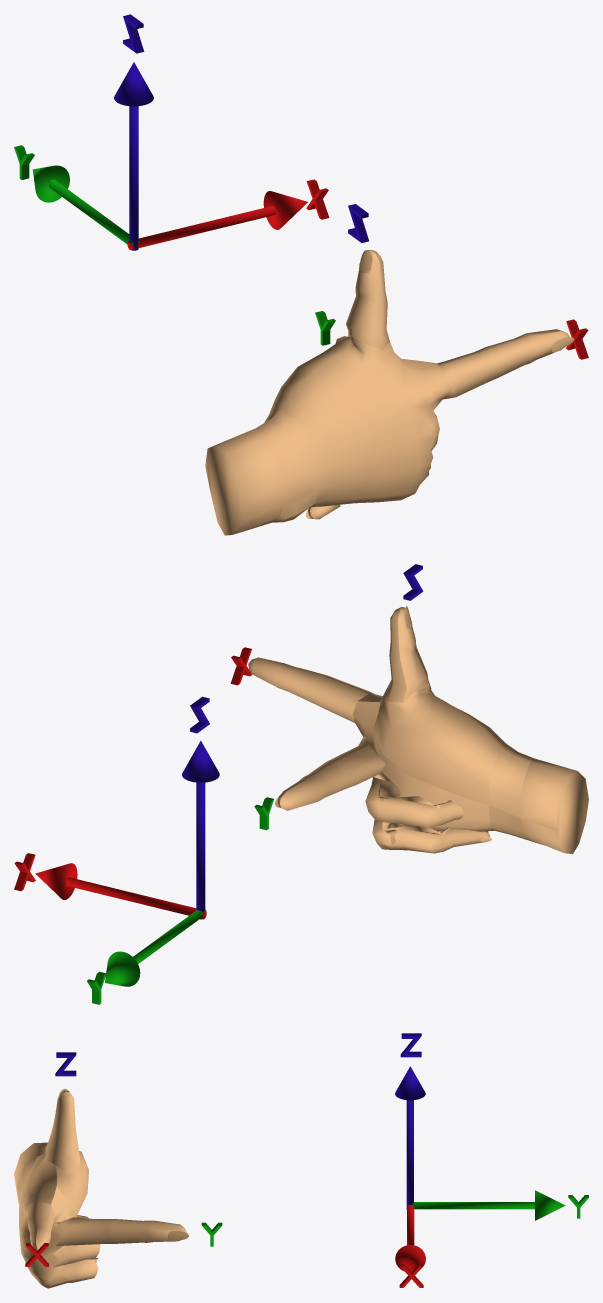
Rendered from right_hand_rule_and_axis.obj.
3 renders of one model, top to bottom at view 1: azimuth 30°, elevation 25°; view 2: azimuth 150°, elevation 25°; view 3: azimuth 270°, elevation 25°, orthographic. The views are drawn at different scales.
Parts seen in each view (by area): view 1: obj13, obj5, obj1, obj2, obj3, obj4, obj6; view 2: obj13, obj1, obj5, obj4, obj2, obj6, obj3; view 3: obj13, obj3, obj1, obj2, obj6, obj4, obj7, obj12.
Part boxes in pixels (<box>): obj13: <box>205,249,574,535</box>; obj5: <box>127,206,275,250</box>; obj1: <box>129,106,138,250</box>; obj2: <box>114,62,153,106</box>; obj3: <box>48,179,139,245</box>; obj4: <box>32,165,69,202</box>; obj6: <box>263,191,307,229</box>; obj13: <box>248,606,588,854</box>; obj1: <box>196,782,205,919</box>; obj5: <box>66,877,206,919</box>; obj4: <box>105,951,140,986</box>; obj2: <box>182,740,219,782</box>; obj6: <box>35,863,77,899</box>; obj3: <box>133,909,206,963</box>; obj13: <box>14,1089,188,1288</box>; obj3: <box>407,1202,534,1209</box>; obj1: <box>406,1100,413,1209</box>; obj2: <box>395,1066,425,1100</box>; obj6: <box>395,1245,425,1271</box>; obj4: <box>535,1190,565,1220</box>; obj7: <box>400,1033,421,1057</box>; obj12: <box>55,1052,76,1076</box>.
Bounding box in the file's own units: 181 × 152 × 329.
